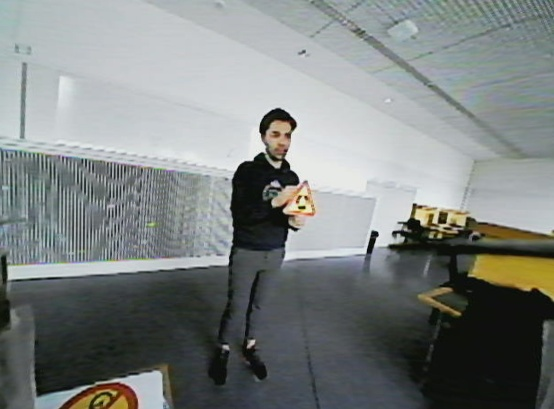roundabout_warning: (284, 177, 319, 223)
